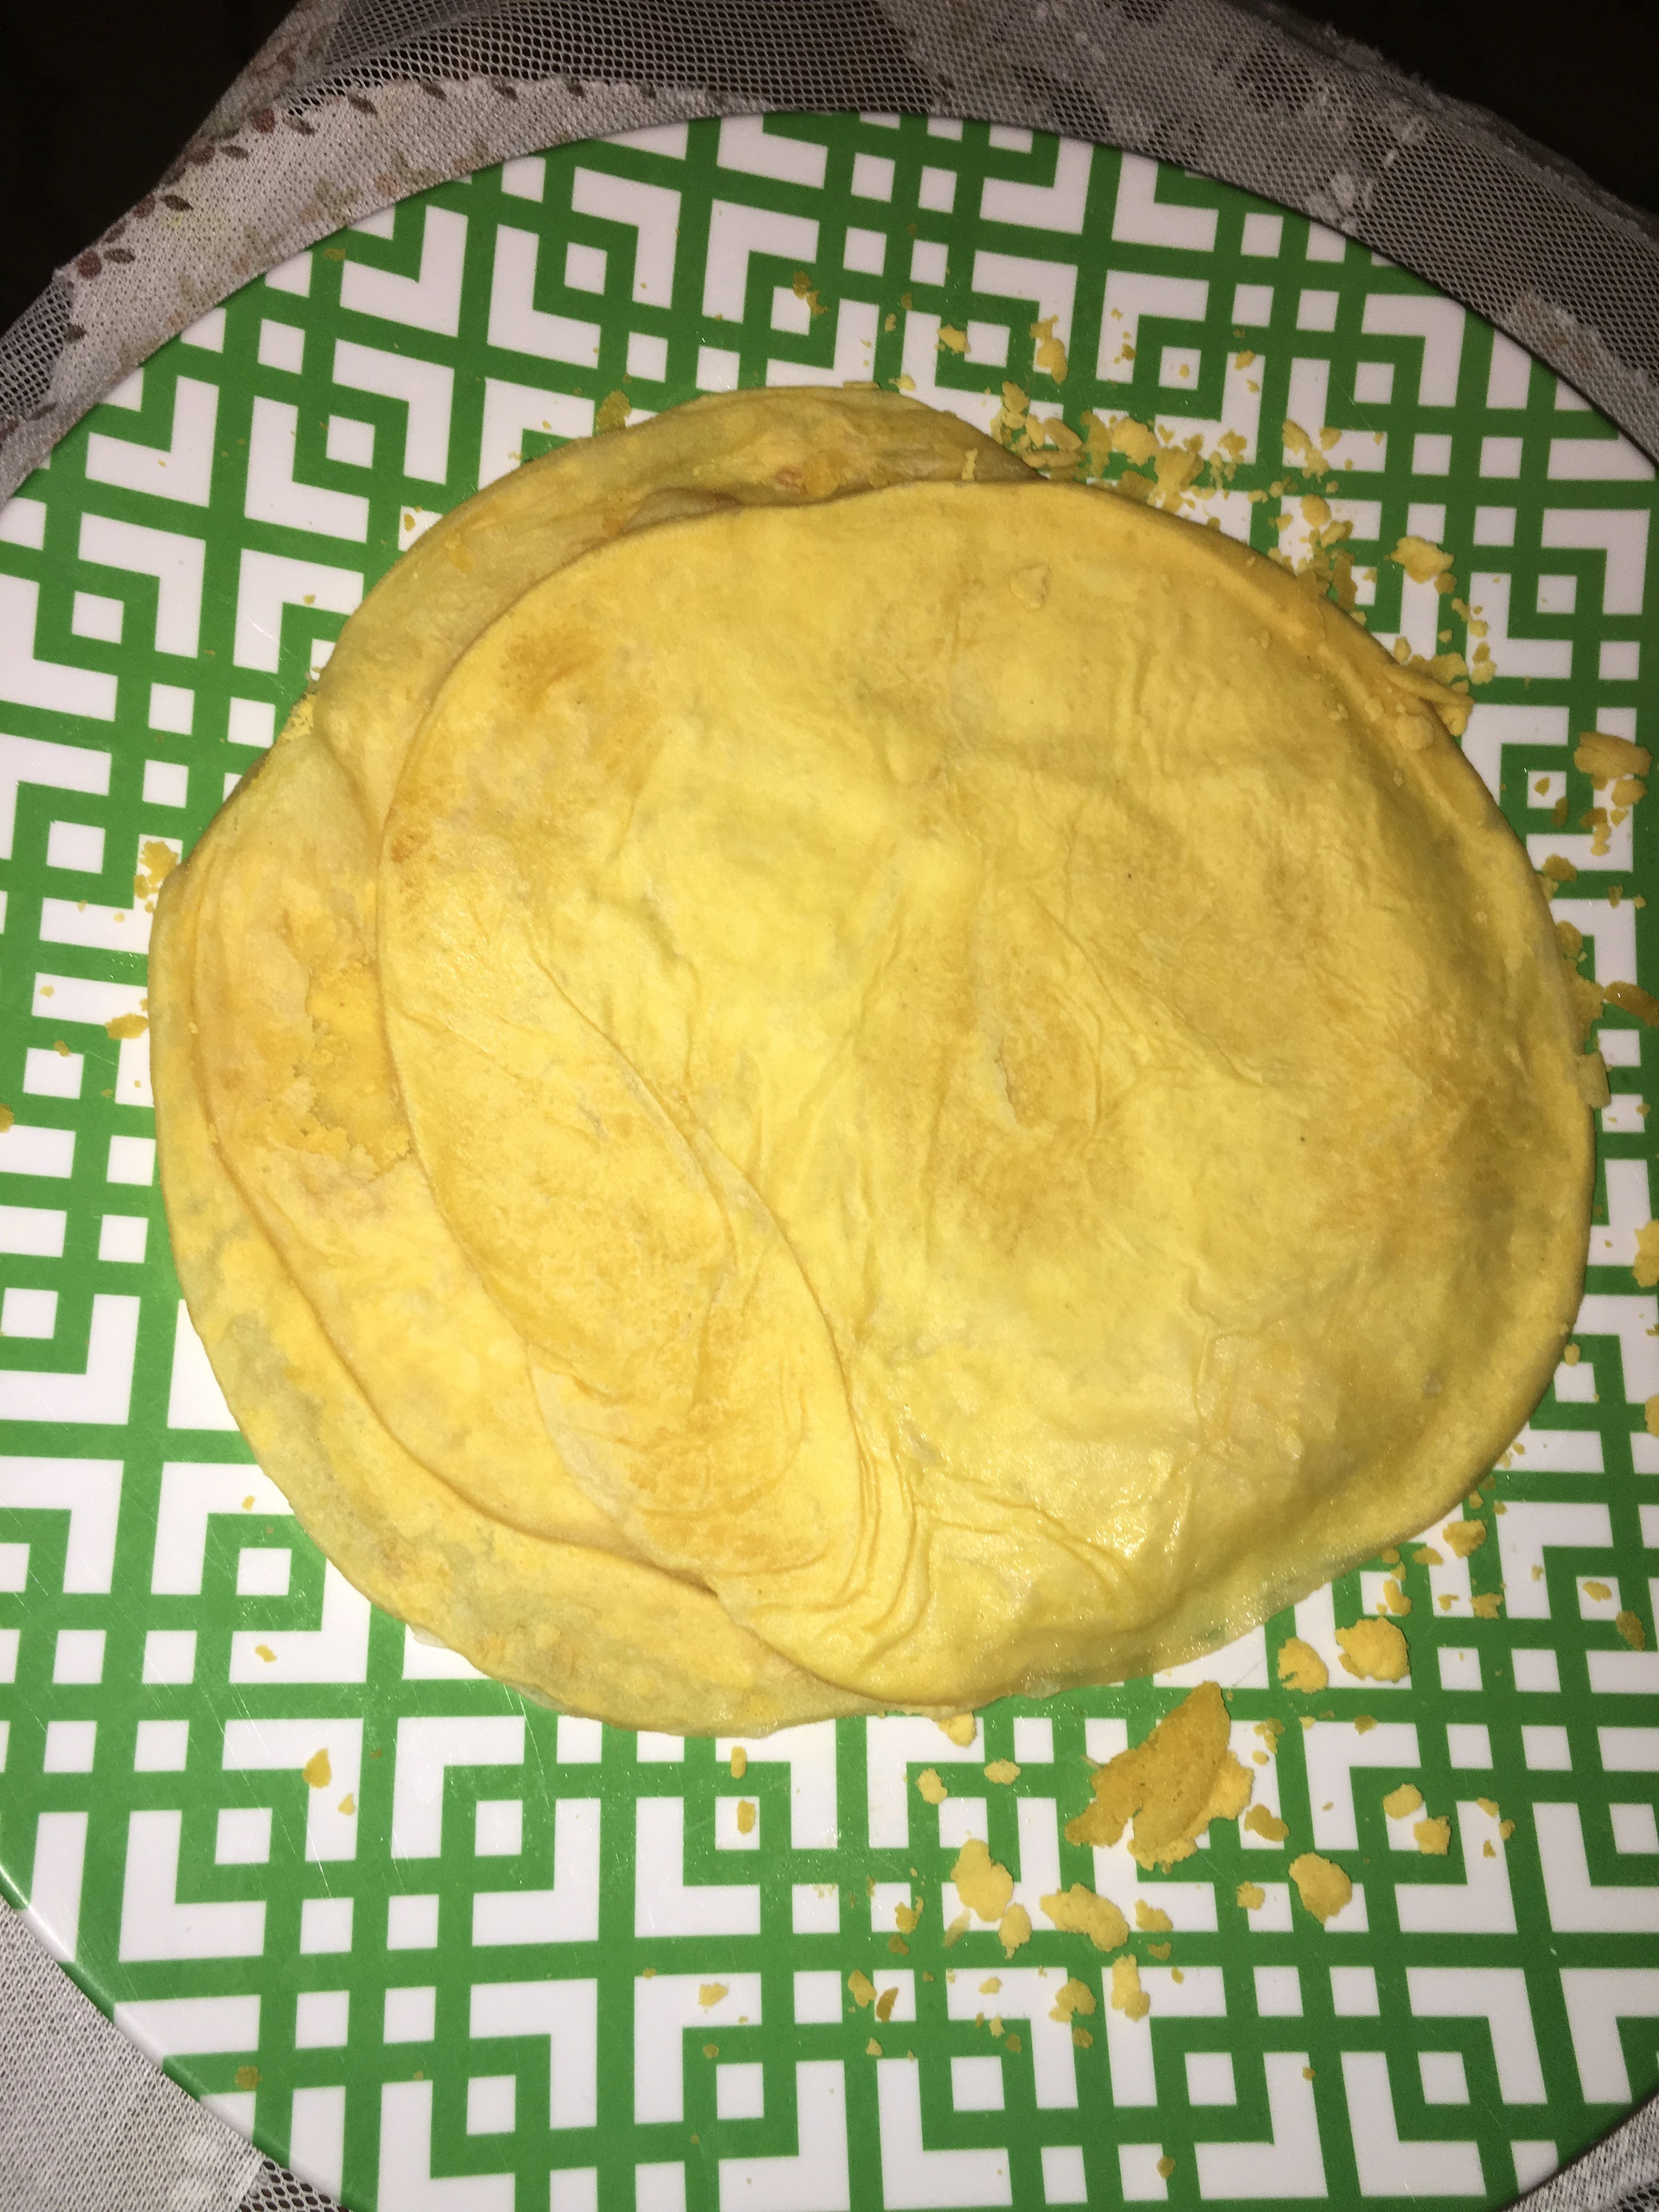Farata: (134, 373, 1607, 1630)
